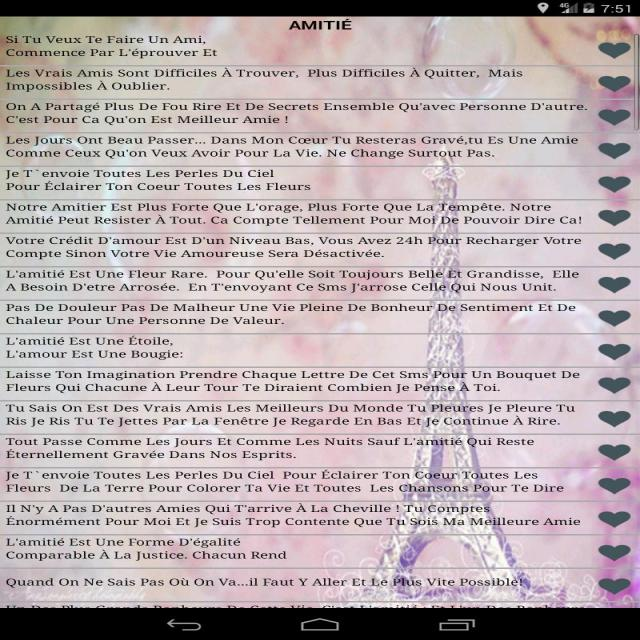button: (594, 240, 635, 262), (596, 73, 632, 96), (596, 106, 632, 129), (596, 173, 631, 196), (597, 342, 635, 363), (595, 375, 633, 396), (595, 140, 634, 160), (594, 442, 633, 462), (597, 408, 634, 429), (595, 274, 633, 294), (596, 576, 632, 597), (595, 206, 632, 226), (596, 309, 632, 329), (596, 477, 632, 496), (598, 41, 632, 61), (599, 543, 632, 563), (598, 511, 632, 529)
heading: (283, 17, 359, 35)
image: (2, 15, 640, 607)
text: (4, 469, 578, 499), (4, 100, 588, 128), (2, 503, 582, 531), (4, 368, 580, 396), (4, 234, 584, 261), (5, 402, 580, 429), (3, 134, 582, 160), (3, 437, 576, 463), (2, 202, 586, 227), (2, 302, 583, 327), (4, 270, 582, 294), (2, 66, 525, 91), (2, 568, 542, 592), (3, 535, 295, 563), (3, 168, 314, 194), (5, 31, 220, 62), (2, 337, 192, 362)
